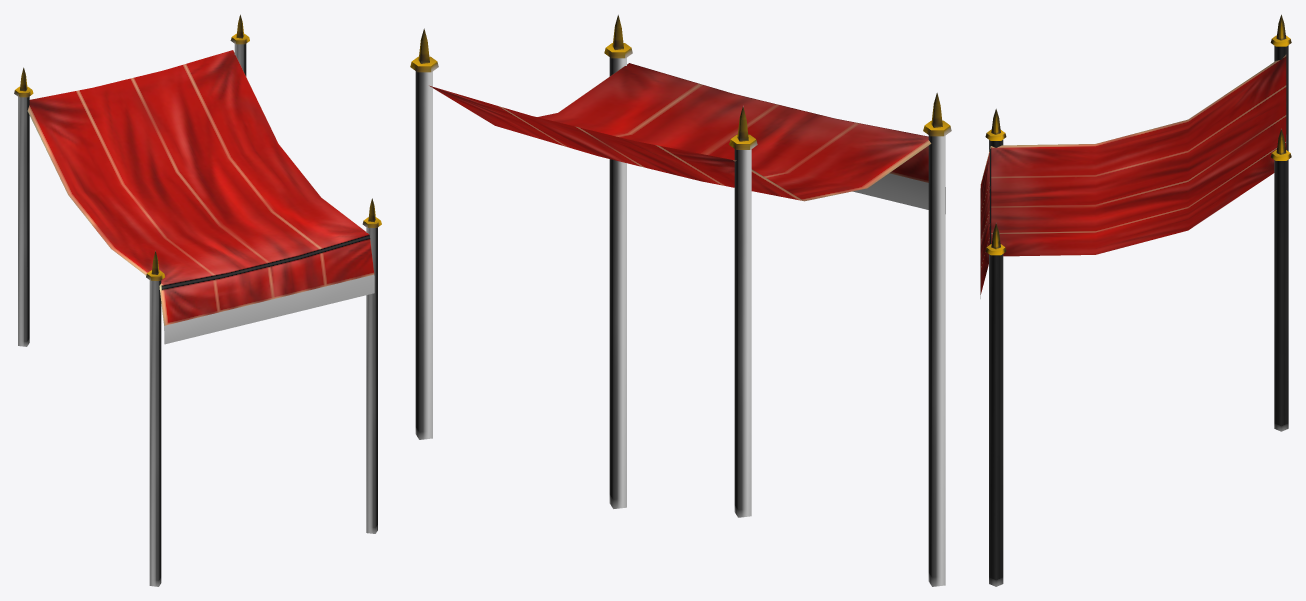
Rendered from gzc_wj_20.fbx.
3 renders of one model, left to right at view 1: azimuth 30°, elevation 25°; view 2: azimuth 150°, elevation 25°; view 3: azimuth 270°, elevation 25°, orthographic. The views are drawn at different scales.
Parts seen in each view (by area): view 1: gzc_wj_20; view 2: gzc_wj_20; view 3: gzc_wj_20.
Part boxes in pixels (x1,y1,x2,y2): gzc_wj_20: [14, 14, 381, 586]; gzc_wj_20: [410, 14, 951, 586]; gzc_wj_20: [980, 14, 1291, 586].
Bounding box in the file's own units: 557 × 969 × 600.
